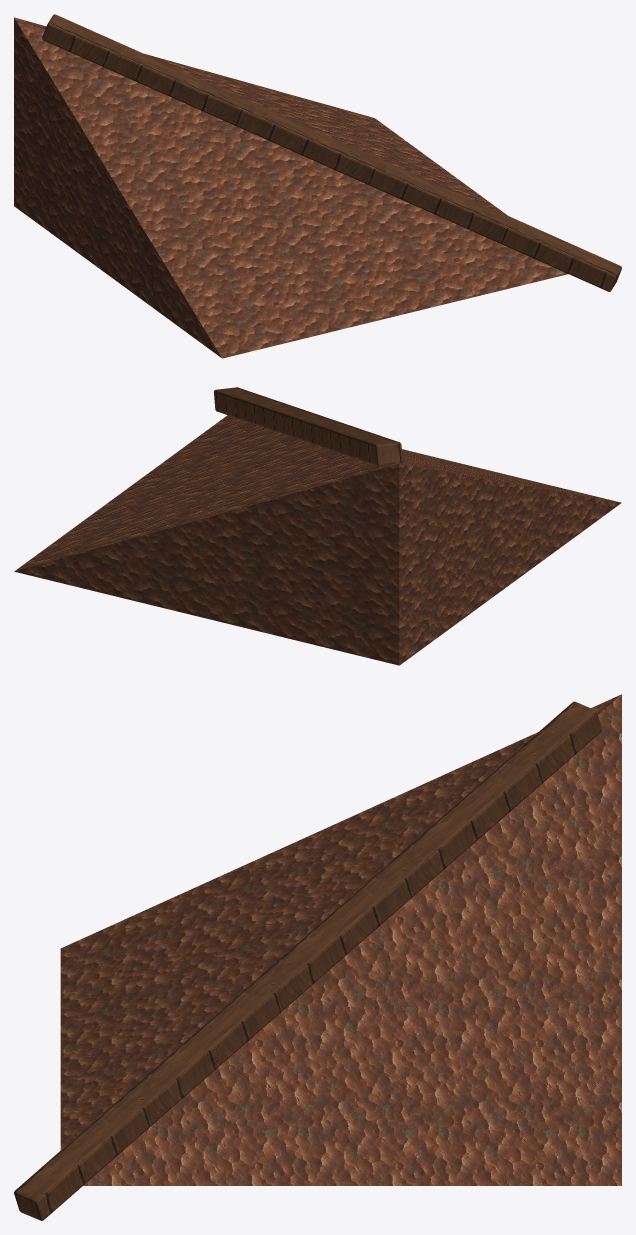
Rendered from roof_26_outer__copper_ingot.glb.
3 views of the same model, one above another, from view 1: azimuth 30°, elevation 25°; view 2: azimuth 150°, elevation 25°; view 3: azimuth 270°, elevation 25° (orthographic). The views are drawn at different scales.
Visible parts, largest first — view 1: model; view 2: model; view 3: model.
Boxes of the visible parts, box(x1,y1,x2,y2) form: model: box(14, 14, 621, 358); model: box(14, 387, 621, 665); model: box(14, 694, 621, 1220).
Size of the model in its own units: 2.17 by 1.09 by 2.17.
2 materials, 2 textured.
